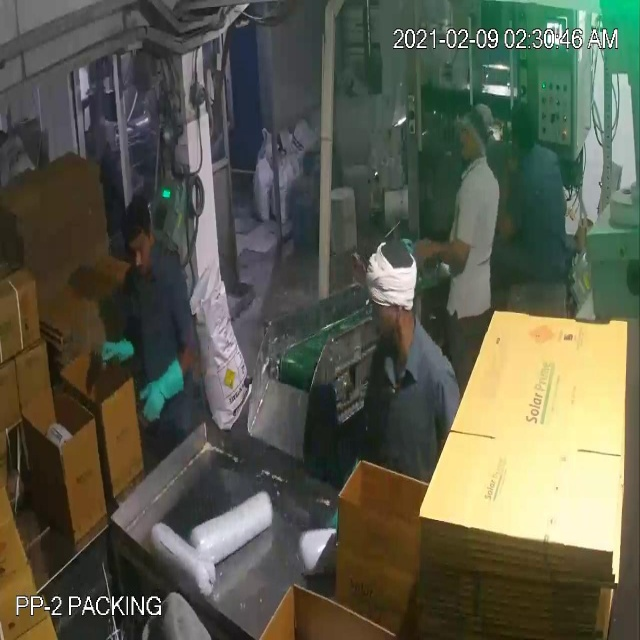Guantes: (138, 350, 188, 431), (92, 324, 140, 380)
Sin_guantes: (396, 213, 478, 290)
